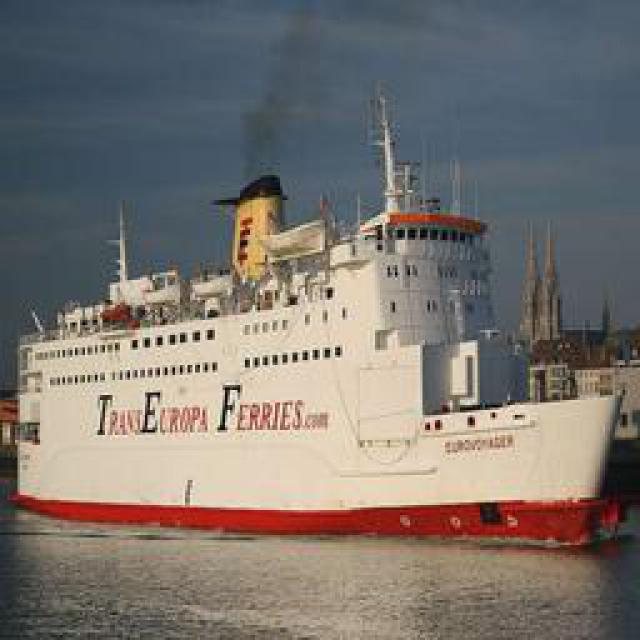Ship: (12, 90, 630, 540)
